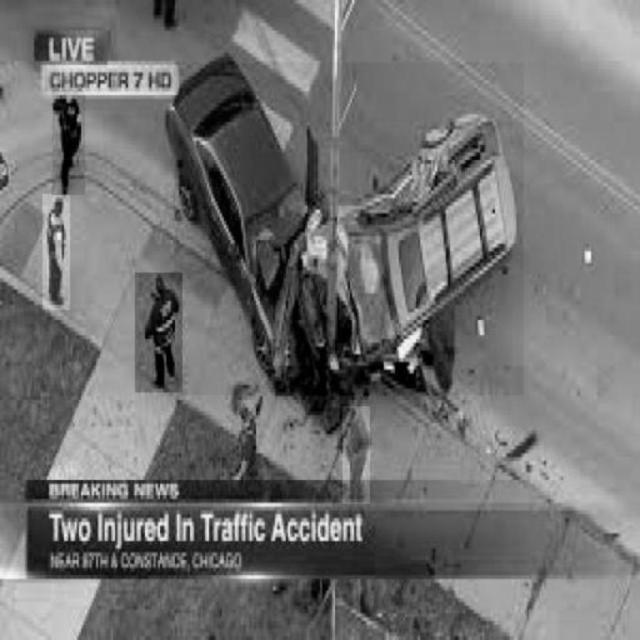accident: (174, 63, 524, 395)
person: (135, 273, 182, 393), (52, 89, 86, 195), (42, 194, 70, 310), (343, 406, 370, 504), (237, 402, 262, 484)
